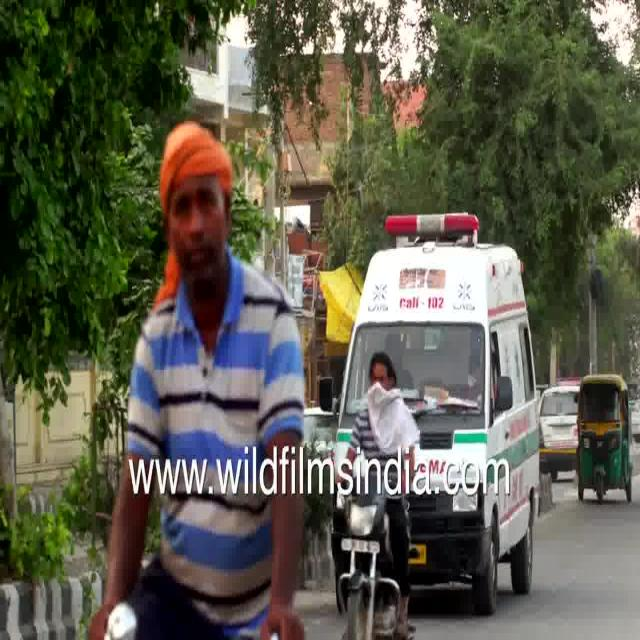ambulance: (342, 209, 531, 351)
